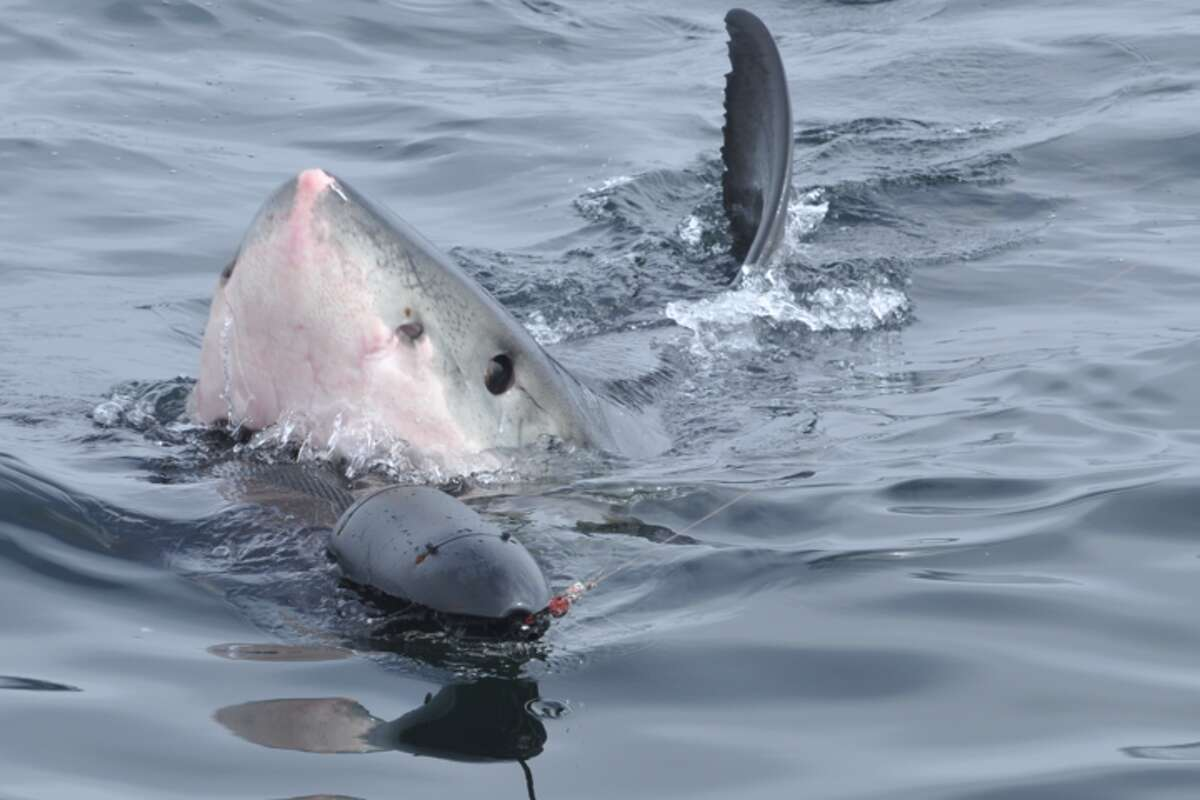Shark: (184, 9, 795, 486)
